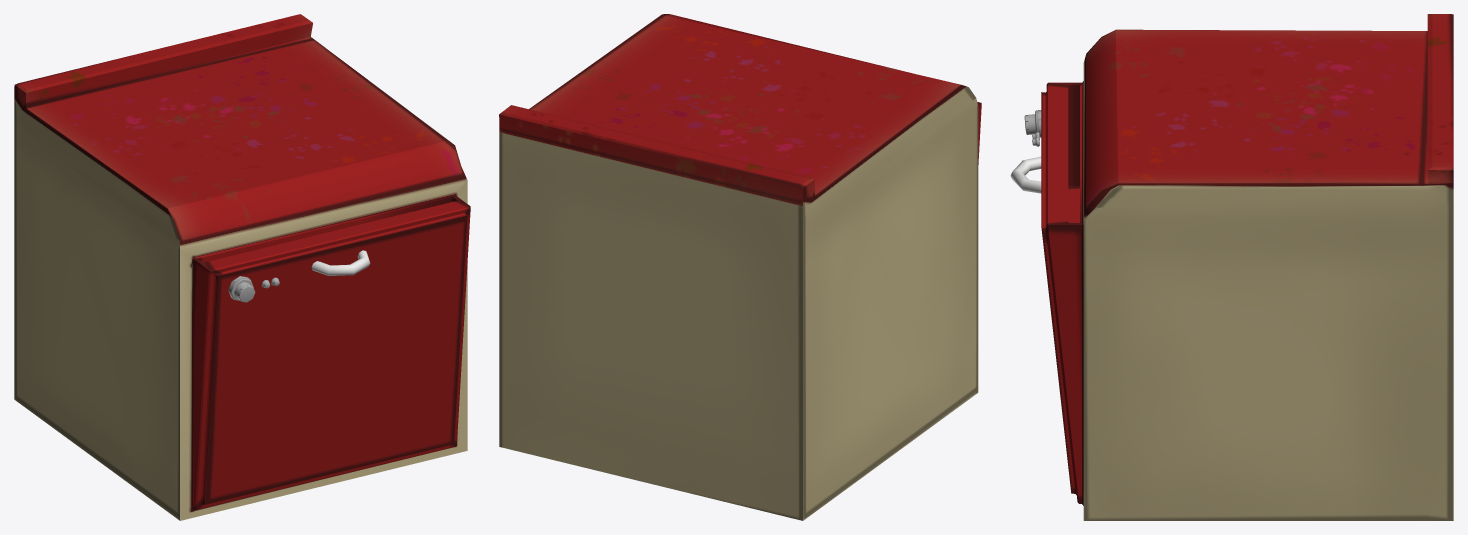
Rendered from Dishwasher.fbx.
The picture shows the model from 3 angles, left to right: view 1: azimuth 30°, elevation 25°; view 2: azimuth 150°, elevation 25°; view 3: azimuth 270°, elevation 25°; orthographic projection. The views are drawn at different scales.
Parts seen in each view (by area): view 1: CabinetDishwasher; view 2: CabinetDishwasher; view 3: CabinetDishwasher.
Boxes of the visible parts, left/top/right/bottom form: CabinetDishwasher: left=14, top=14, right=470, bottom=520; CabinetDishwasher: left=499, top=14, right=981, bottom=520; CabinetDishwasher: left=1010, top=14, right=1453, bottom=520.
Size of the model in its own units: 5.63 by 5.93 by 6.75.
